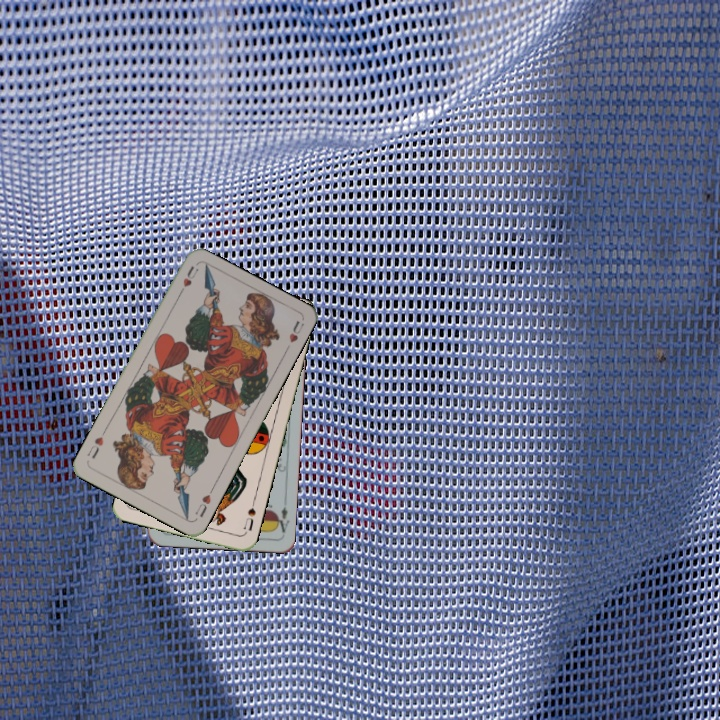EA: (271, 496, 292, 535)
HU: (174, 262, 201, 299), (191, 484, 216, 520)
SU: (240, 496, 258, 534)
